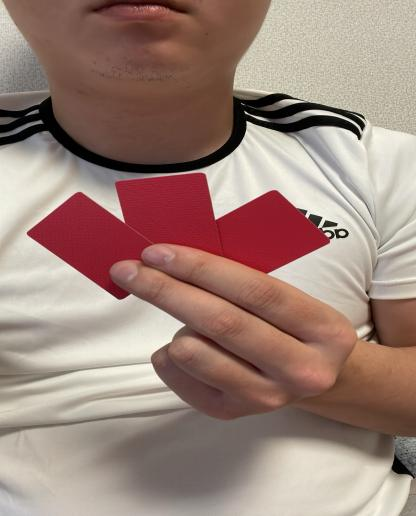ThreeHwatoo: (11, 164, 349, 313)
